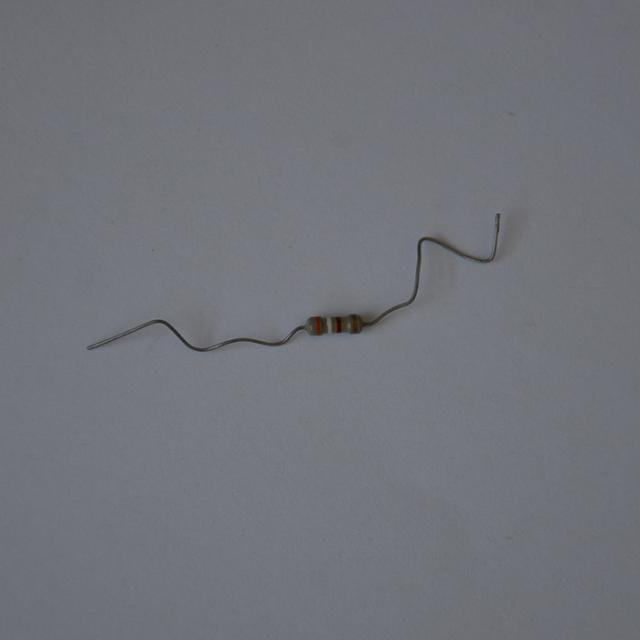gold: (352, 313, 359, 333)
orange: (315, 315, 322, 335)
red: (336, 316, 342, 331)
resistor: (306, 306, 368, 340)
white: (327, 316, 333, 332)
